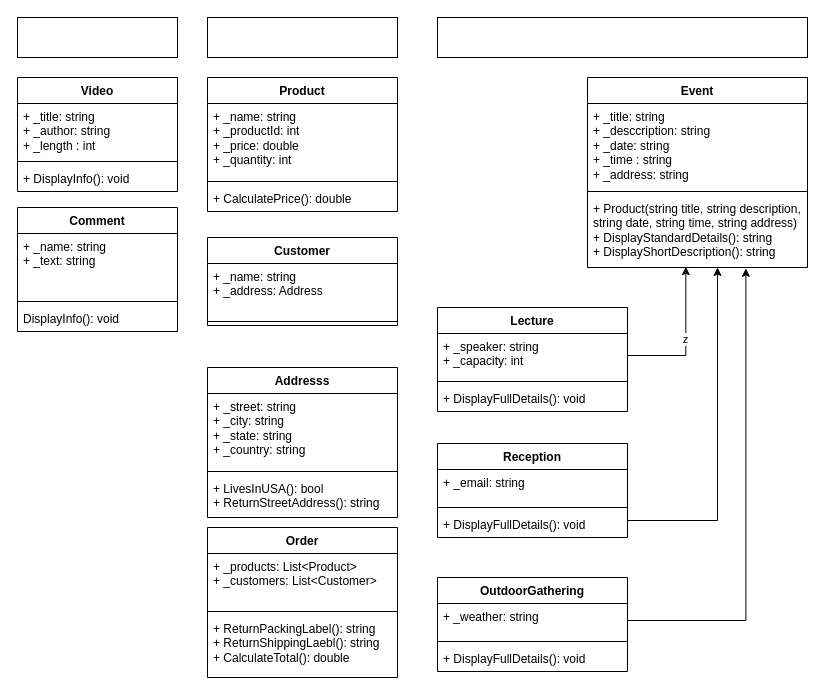
Some shapes in this 825 by 698 pixel diagram are drawn without their labels. Each missing label, with the centre of its shape:
"Abstraction" belongs at point (97, 37).
"Encapsulation" belongs at point (302, 37).
"Inheritance" belongs at point (622, 37).
